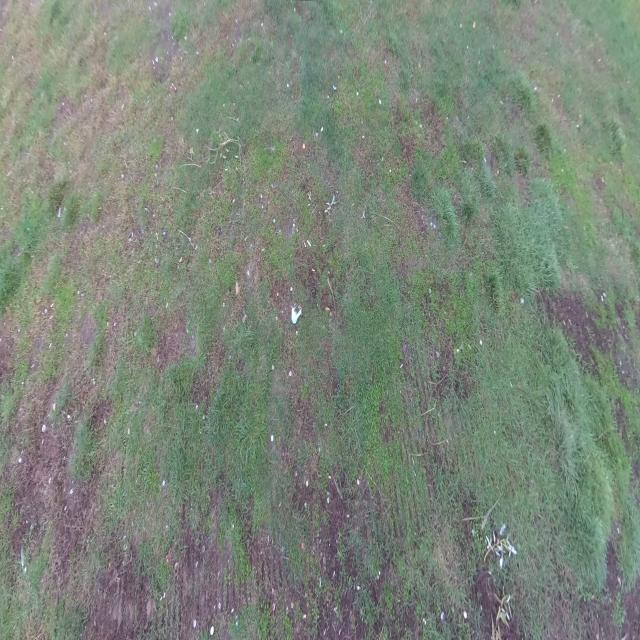rubbish: (290, 303, 303, 324)
